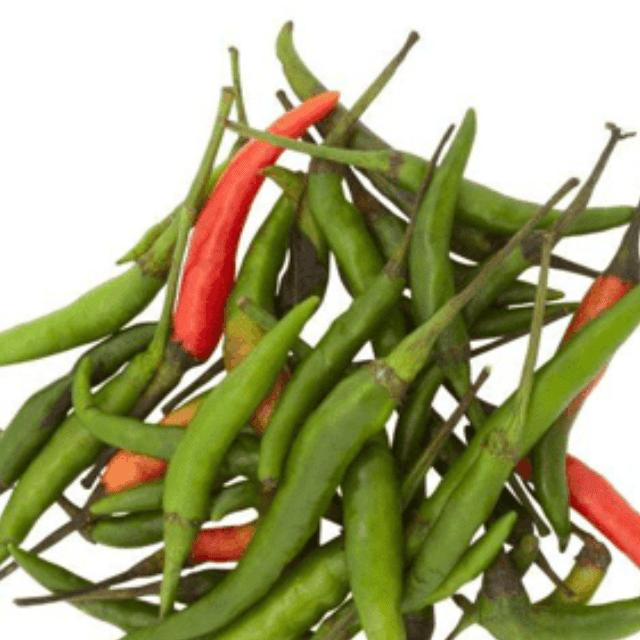chili_pepper: (133, 294, 469, 640), (0, 220, 177, 365), (521, 285, 640, 456), (210, 541, 349, 640), (0, 414, 103, 546), (477, 557, 640, 640), (343, 434, 407, 640), (95, 343, 158, 416)
